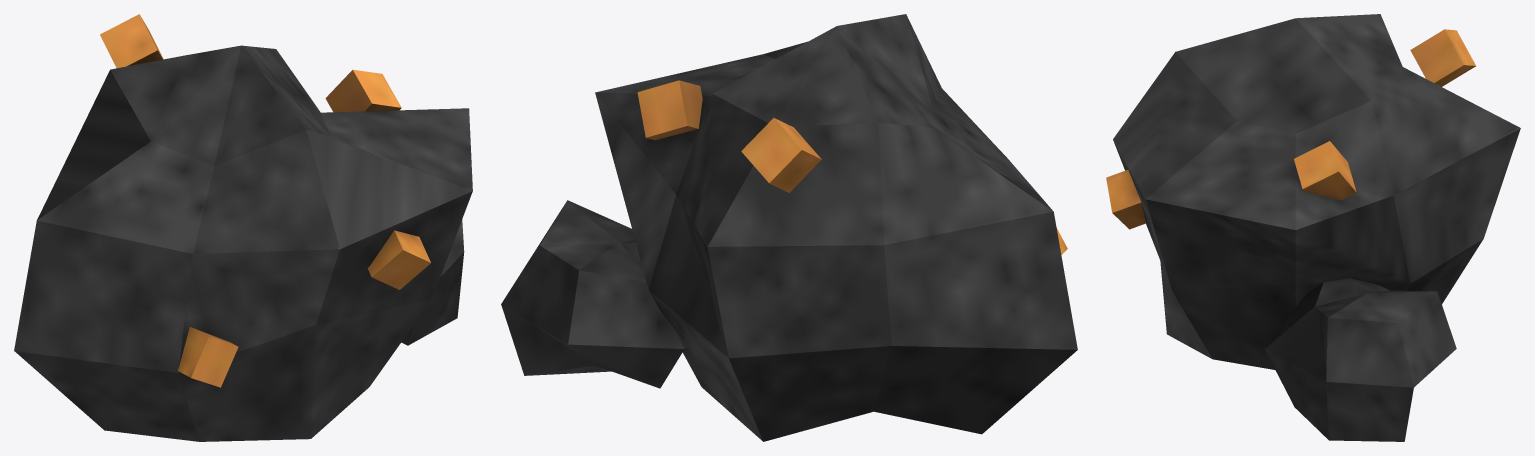
The model's file is SM_Loot_Coal.fbx.
3 views of the same model, side by side, from view 1: azimuth 30°, elevation 25°; view 2: azimuth 150°, elevation 25°; view 3: azimuth 270°, elevation 25° (orthographic). The views are drawn at different scales.
Visible parts, largest first — view 1: SM_Loot_Coal; view 2: SM_Loot_Coal; view 3: SM_Loot_Coal.
Part boxes in pixels (x1,y1,x2,y2): SM_Loot_Coal: (14,14,472,441); SM_Loot_Coal: (501,14,1077,441); SM_Loot_Coal: (1106,14,1520,441).
Size of what is drawn, in the model's own units: 86.58 by 61.23 by 70.26.
2 materials, 2 textured.
